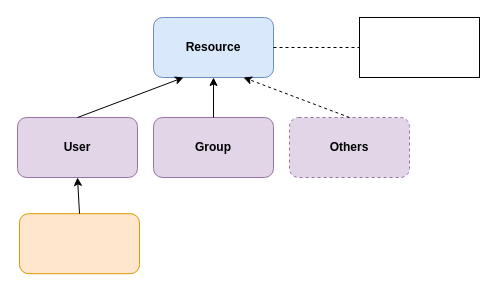
Some shapes in this 497 by 292 pixel diagram are drawn without their labels. The centre of each missing label's shape, as x and y in pixels:
"Common Attributes: i d, externalId, meta" goes at (419,47).
"Enterprise User" goes at (79,243).
